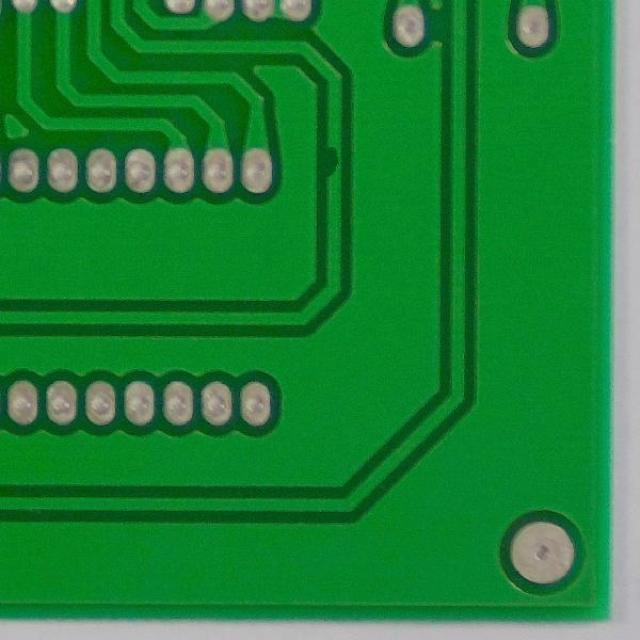mouse_bite: (319, 137, 351, 190)
